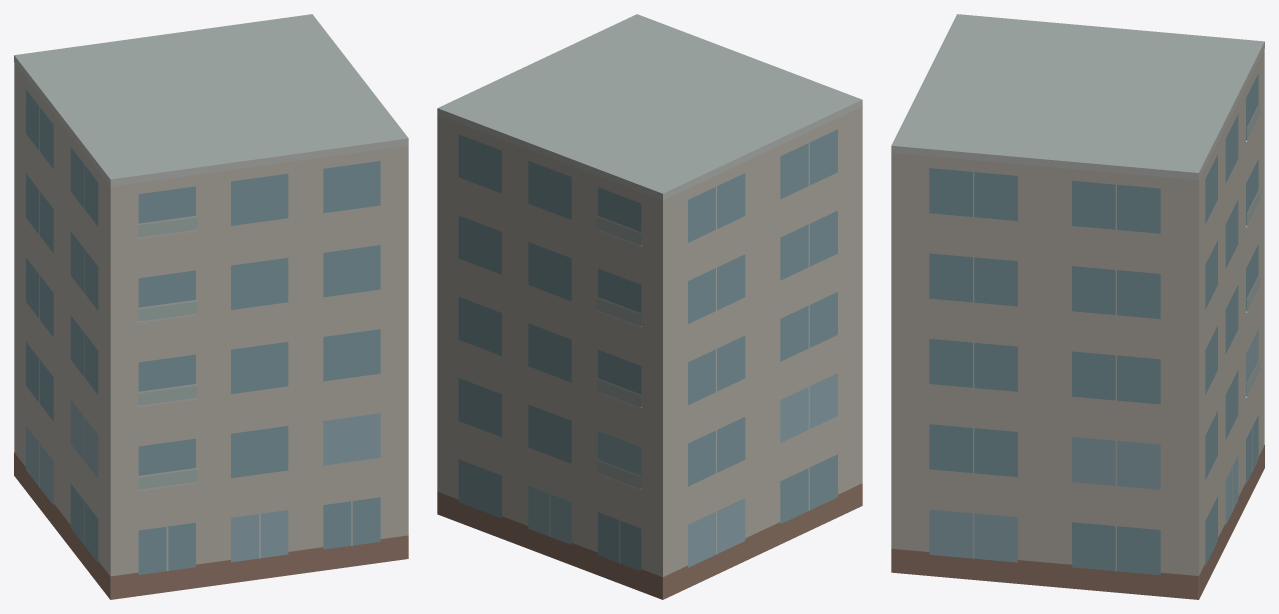
The model's file is survey-upis-32701565.glb.
The picture shows the model from 3 angles, left to right: view 1: azimuth 30°, elevation 25°; view 2: azimuth 150°, elevation 25°; view 3: azimuth 270°, elevation 25°; orthographic projection. The views are drawn at different scales.
Visible parts, largest first — view 1: survey-upis-32701565.tmp; view 2: survey-upis-32701565.tmp; view 3: survey-upis-32701565.tmp.
Part boxes in pixels (x1,y1,x2,y2): survey-upis-32701565.tmp: [14, 14, 408, 599]; survey-upis-32701565.tmp: [437, 14, 862, 599]; survey-upis-32701565.tmp: [891, 14, 1264, 599].
Size of the model in its own units: 11.6 by 14.5 by 11.51.
